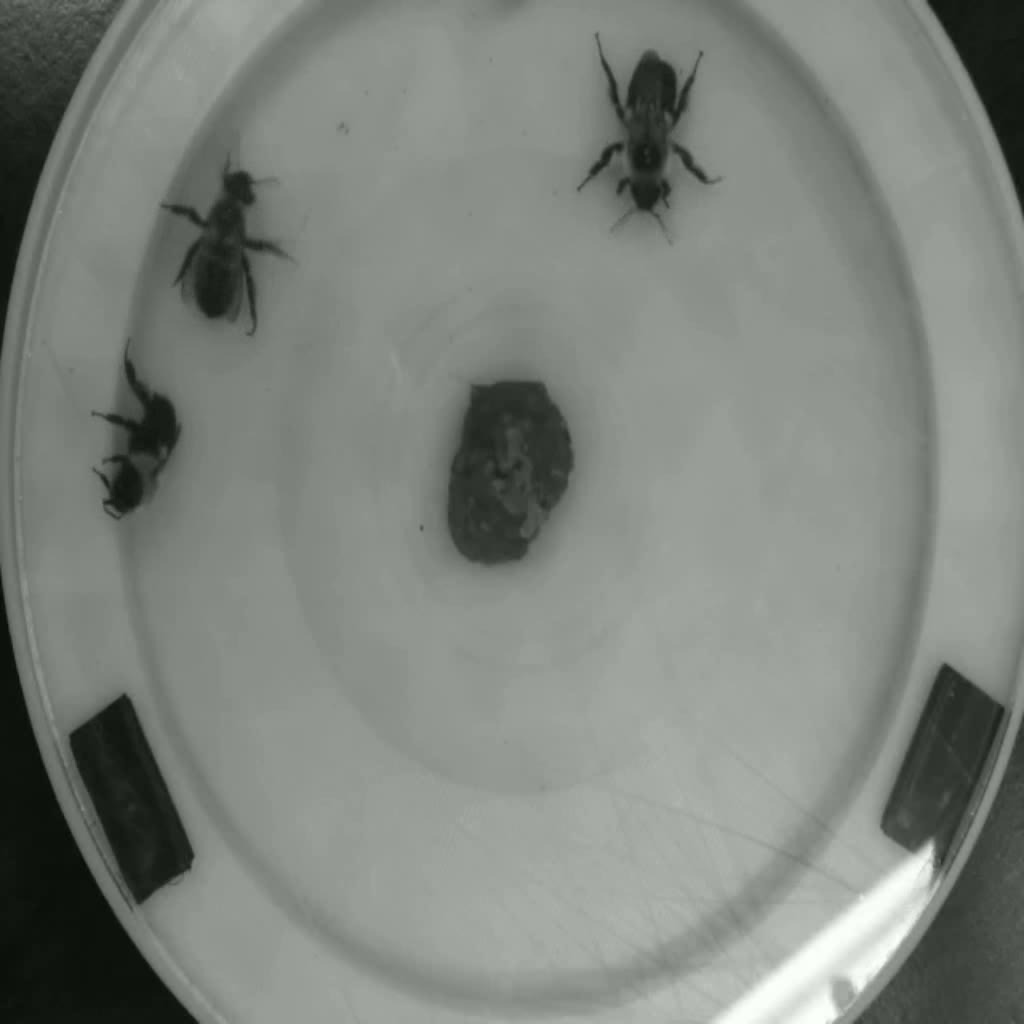bee: (610, 56, 699, 226), (195, 170, 277, 349), (94, 381, 187, 536)
